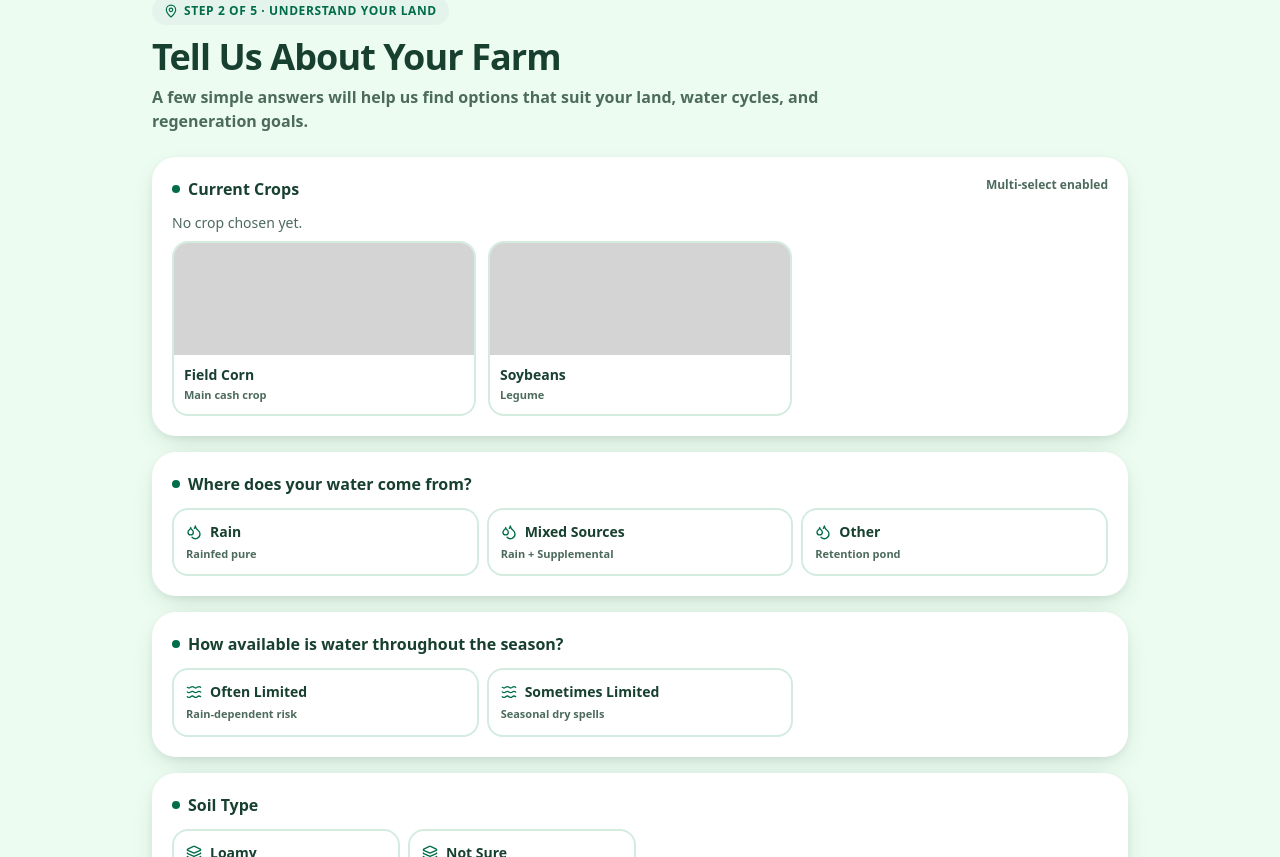
Test case: my farm › keeps the save button disabled until every section has a value
This screenshot has width=1280, height=857.
Click the button "Field Corn Main cash crop" at x=324, y=328, box x1=172 y1=241 x2=476 y2=416
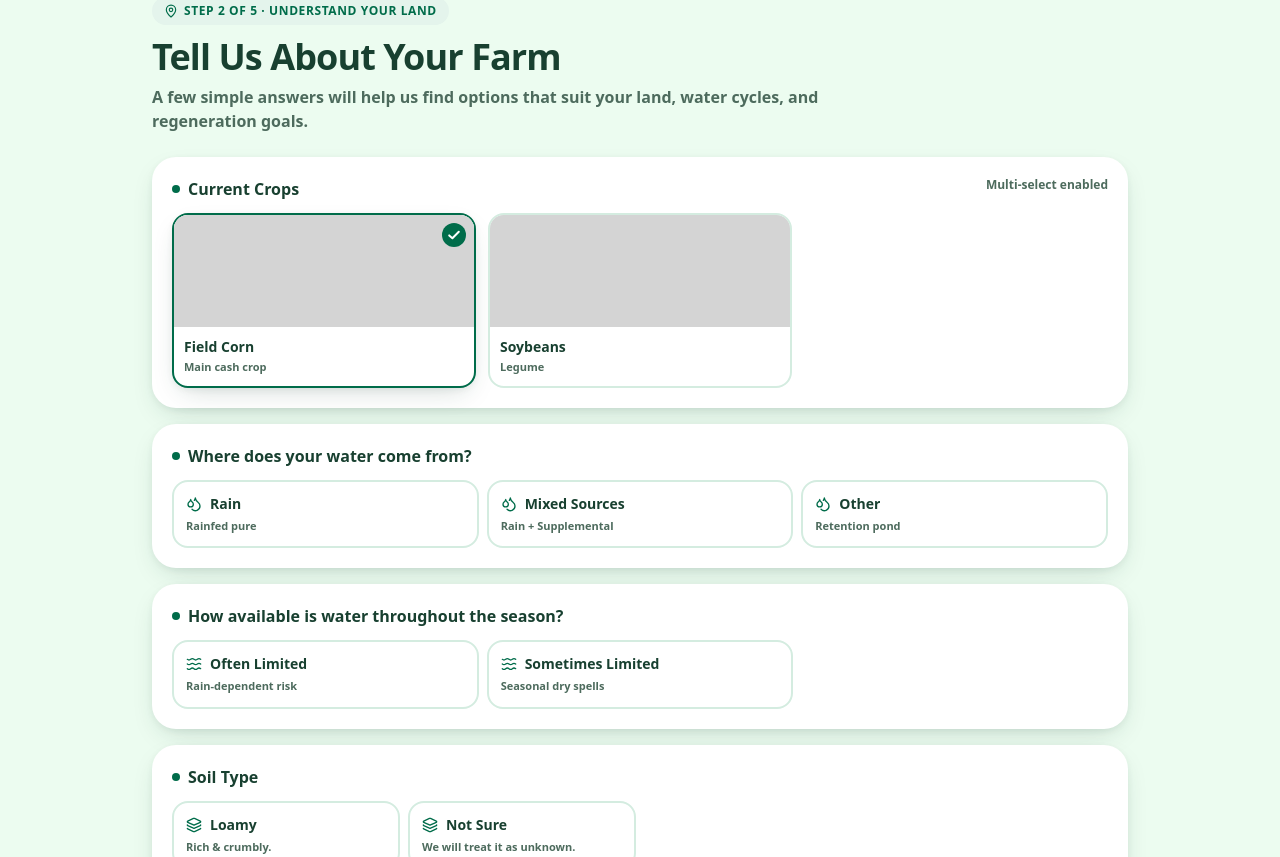
Click the button "Mixed Sources Rain + Supplemental" at x=575, y=503, box x1=487 y1=480 x2=793 y2=548
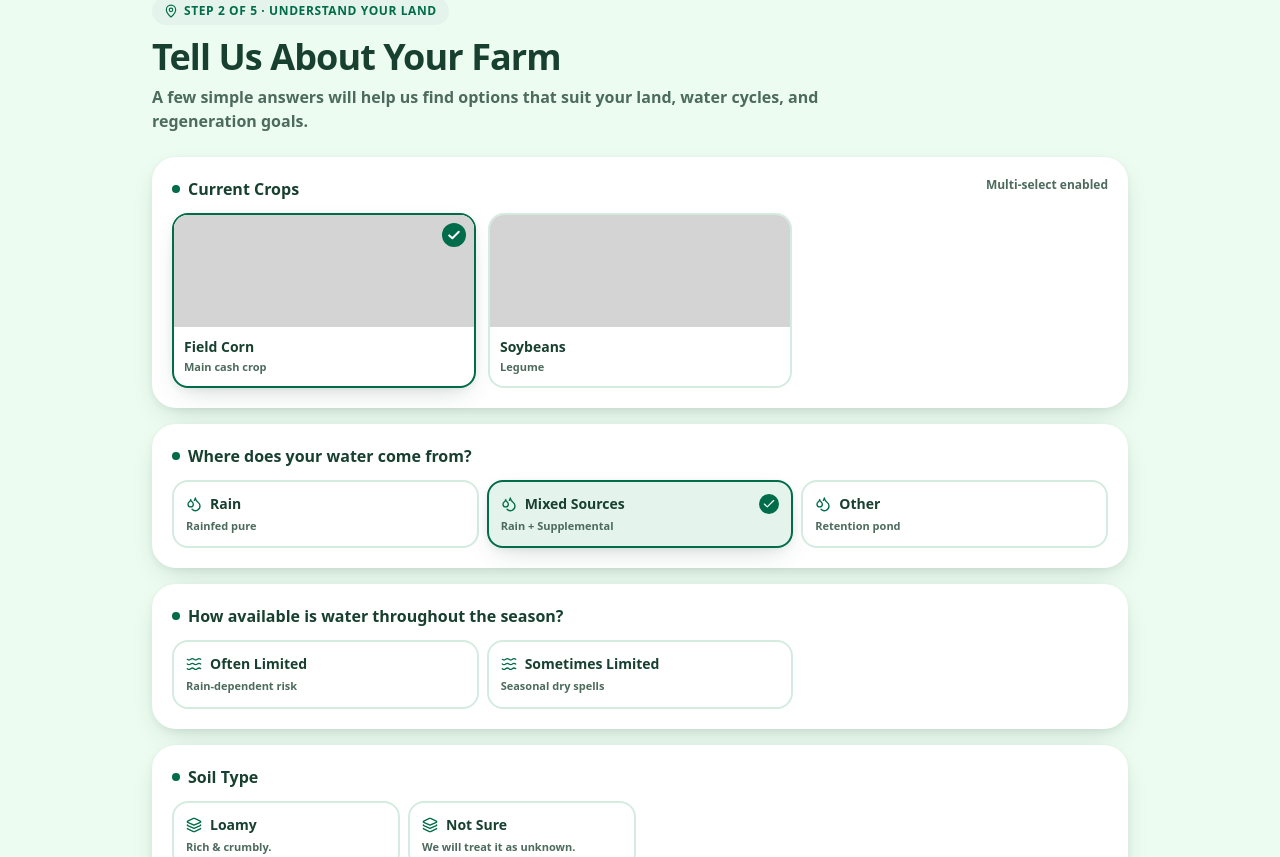
Click the button "Sometimes Limited Seasonal dry spells" at x=640, y=674, box x1=487 y1=640 x2=793 y2=708
(page scrolled)
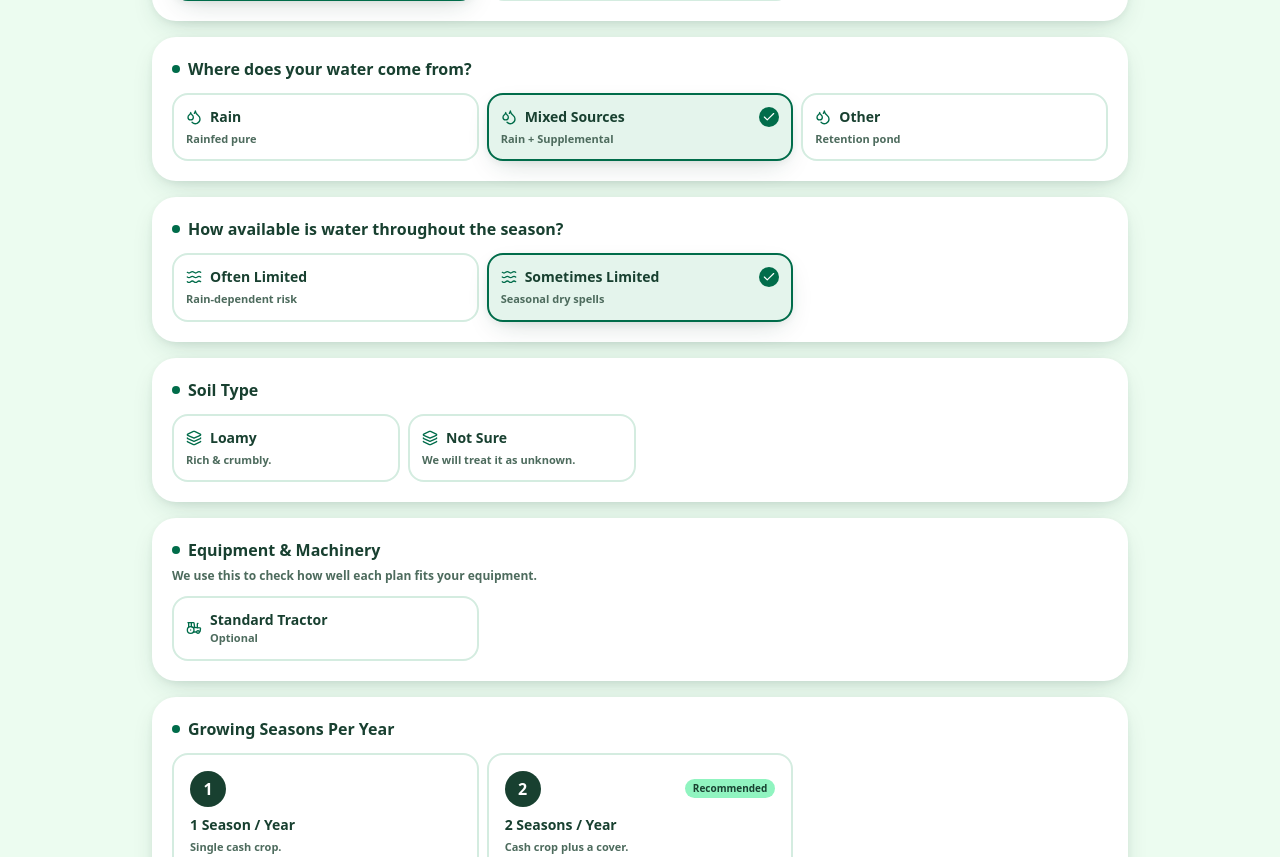
Click the button "Loamy Rich & crumbly." at x=286, y=448, box x1=172 y1=414 x2=400 y2=482
(page scrolled)
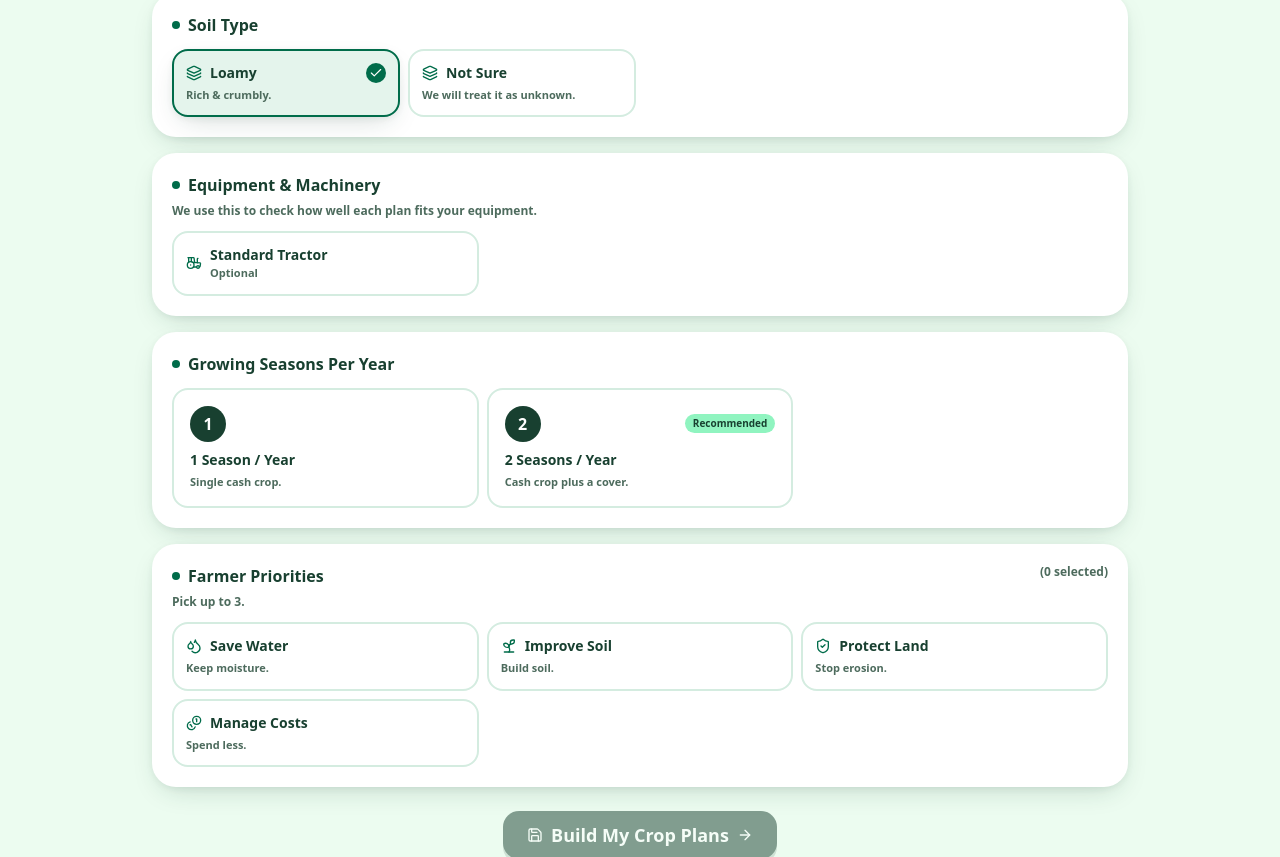
Click the button "2 Recommended 2 Seasons / Year Cash crop plus a cover." at x=523, y=424, box x1=487 y1=388 x2=793 y2=508
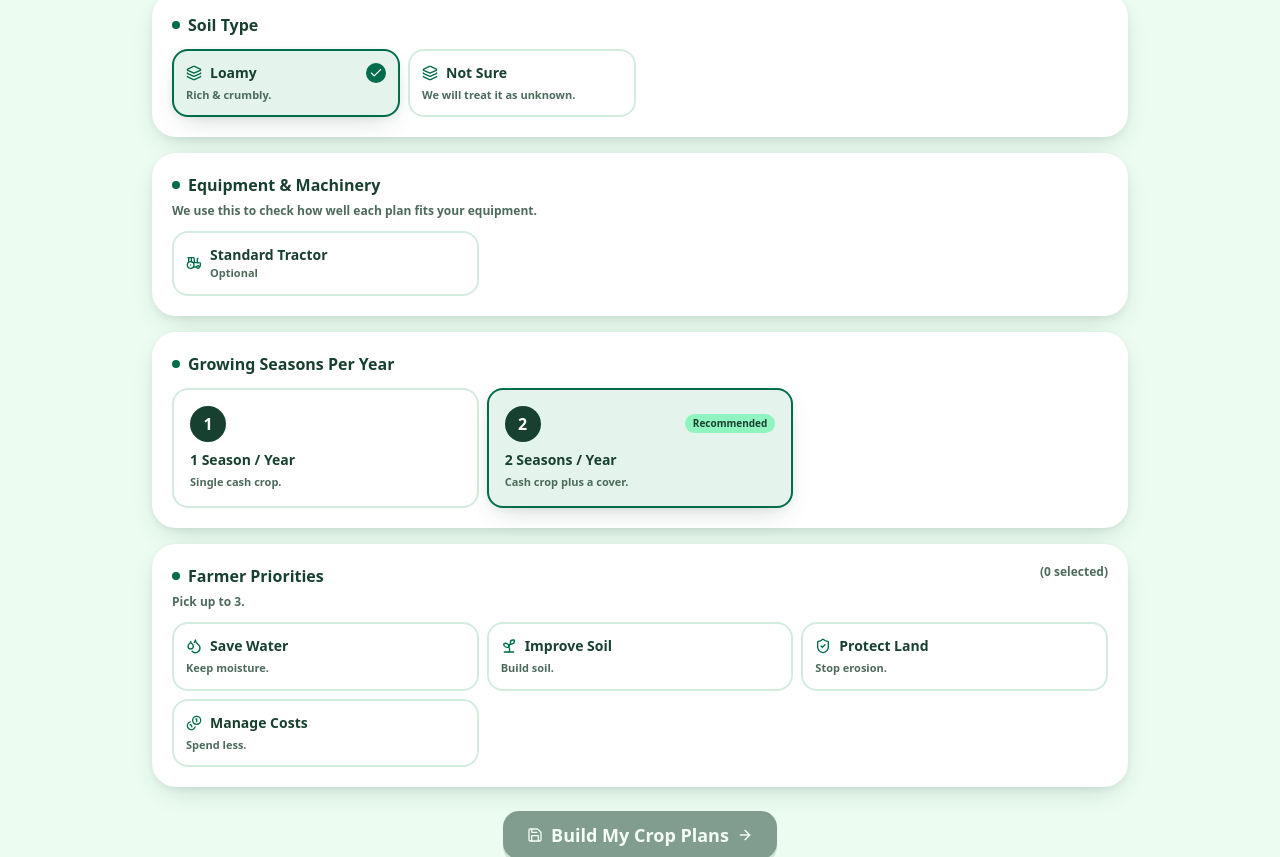
Click the button "Save Water Keep moisture." at x=249, y=646, box x1=172 y1=622 x2=479 y2=690
(page scrolled)
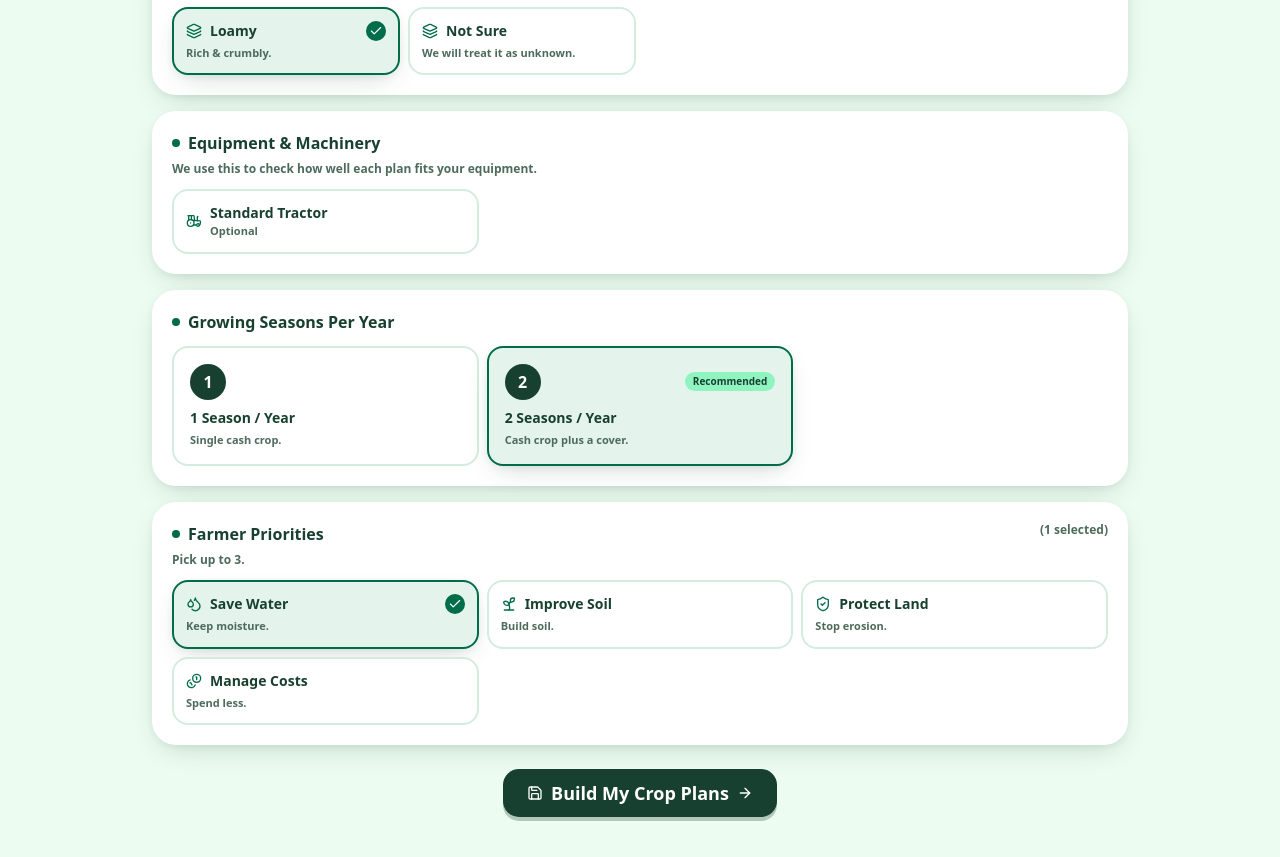
Expected: the button "Build My Crop Plans" is enabled, x1=503 y1=769 x2=777 y2=817
